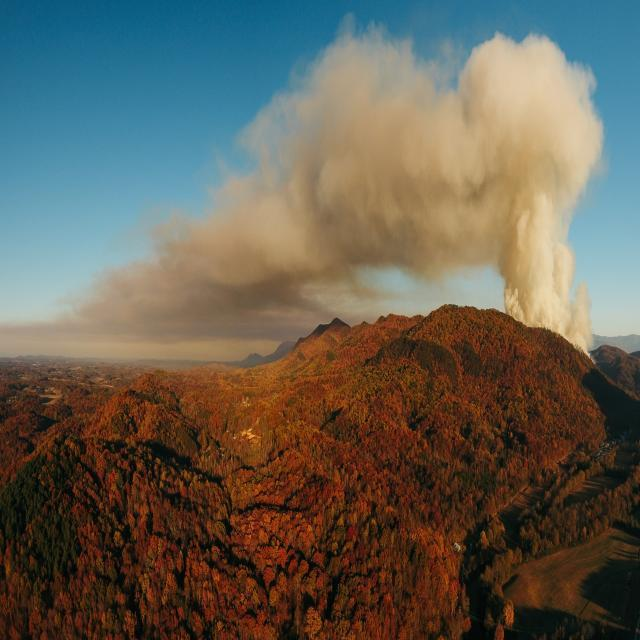Smoke: (294, 35, 600, 292)
